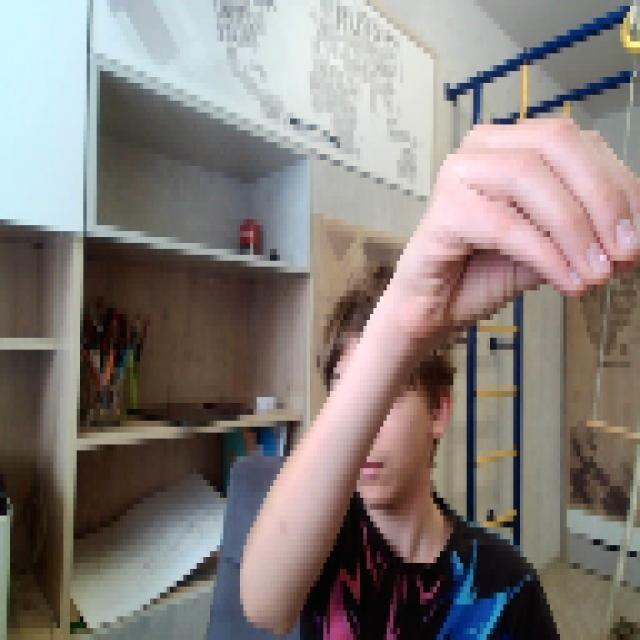left_click: (427, 107, 630, 320)
